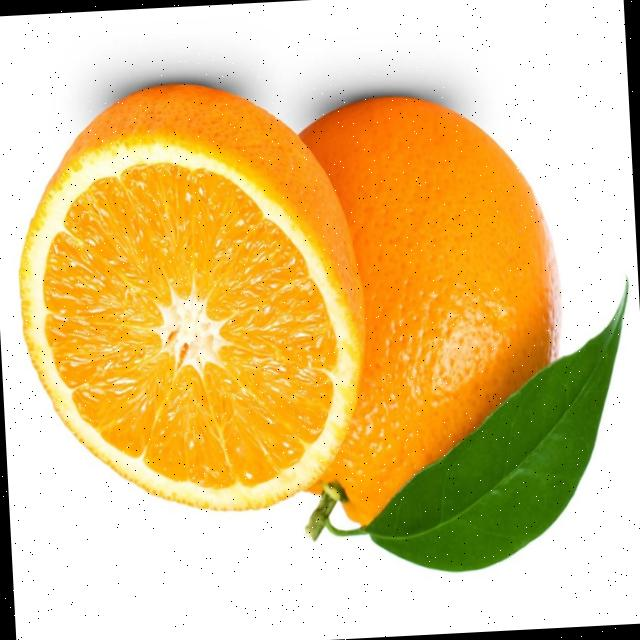Jeruk: (9, 73, 376, 524), (282, 88, 574, 544)
